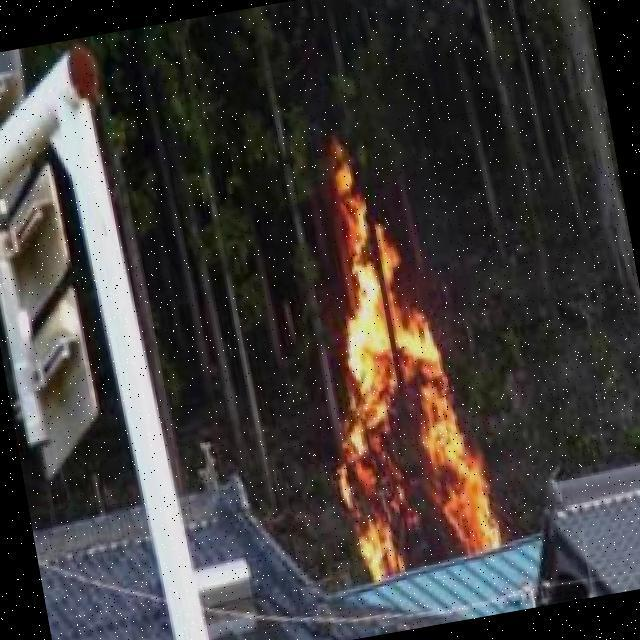Fire: (286, 178, 502, 584)
